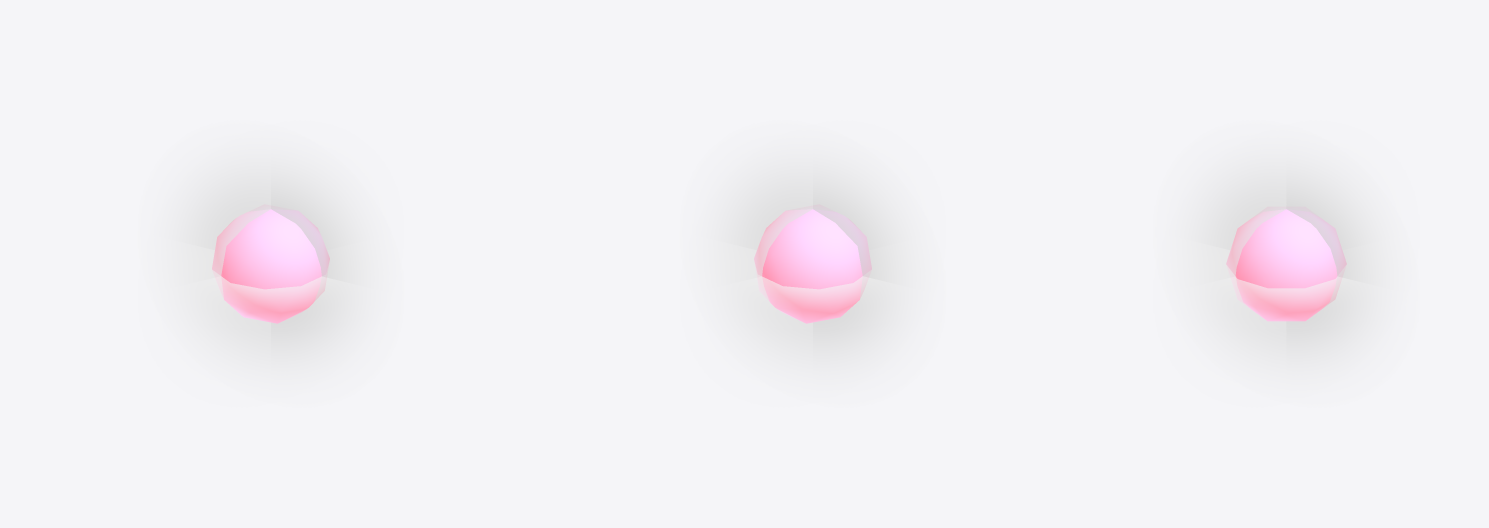
Rendered from fx_heal_orb.glb.
3 views of the same model, side by side, from view 1: azimuth 30°, elevation 25°; view 2: azimuth 150°, elevation 25°; view 3: azimuth 270°, elevation 25° (orthographic).
Visible parts, largest first — view 1: Glow, Orb; view 2: Glow, Orb; view 3: Glow, Orb.
Boxes of the visible parts, x1,y1,x2,y2 form: Glow: [142, 143, 399, 384]; Orb: [212, 205, 329, 323]; Glow: [684, 143, 941, 384]; Orb: [754, 205, 871, 323]; Glow: [1157, 143, 1415, 384]; Orb: [1226, 207, 1346, 321].
Size of the model in its own units: 0.28 by 0.28 by 0.28.
Materials: 2 (1 with a texture image).
